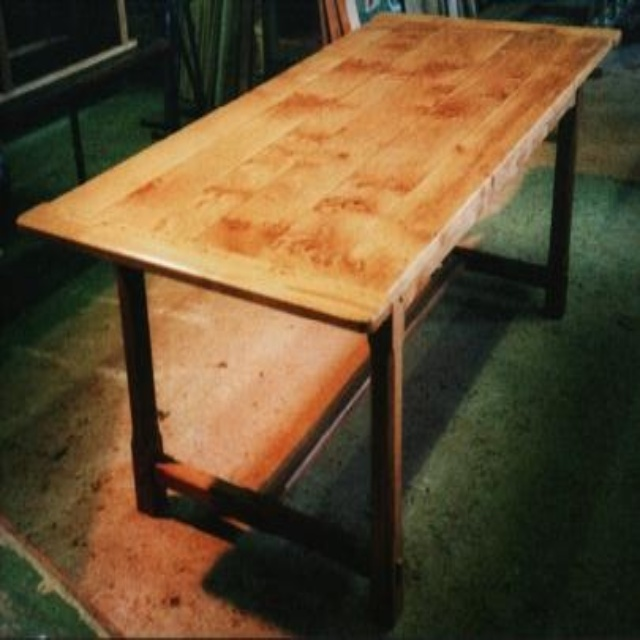obstacle: (17, 15, 618, 633)
